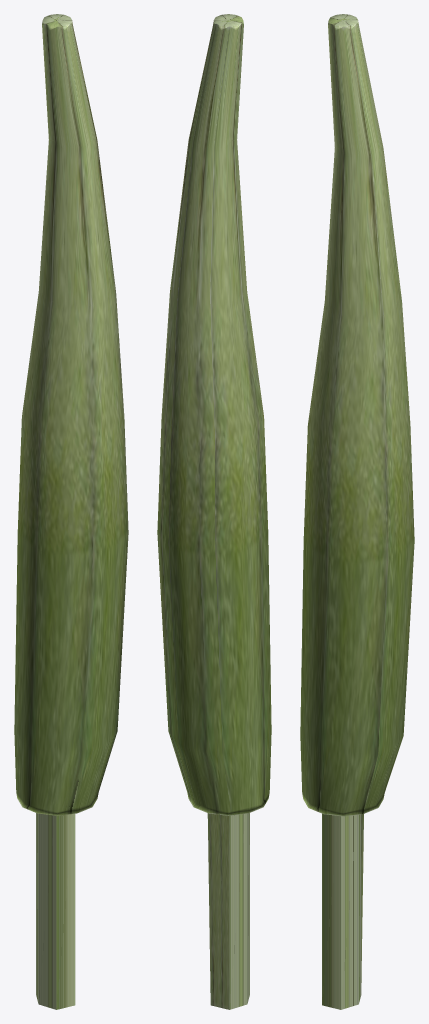
Rendered from okra.fbx.
The picture shows the model from 3 angles, left to right: view 1: azimuth 30°, elevation 25°; view 2: azimuth 150°, elevation 25°; view 3: azimuth 330°, elevation 25°; orthographic projection.
Visible parts, largest first — view 1: orka, orkastem; view 2: orka, orkastem; view 3: orka, orkastem.
Part boxes in pixels (x1,y1,x2,y2): orka: (14, 14, 128, 815); orkastem: (36, 813, 75, 1009); orka: (157, 14, 271, 815); orkastem: (207, 813, 249, 1009); orka: (300, 14, 414, 816); orkastem: (322, 813, 363, 1009).
Bounding box in the file's own units: 0.1459 × 1.45 × 0.149.
